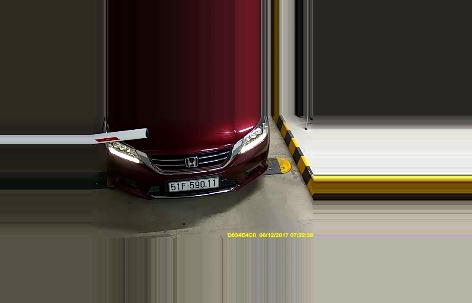plate: (169, 175, 218, 193)
